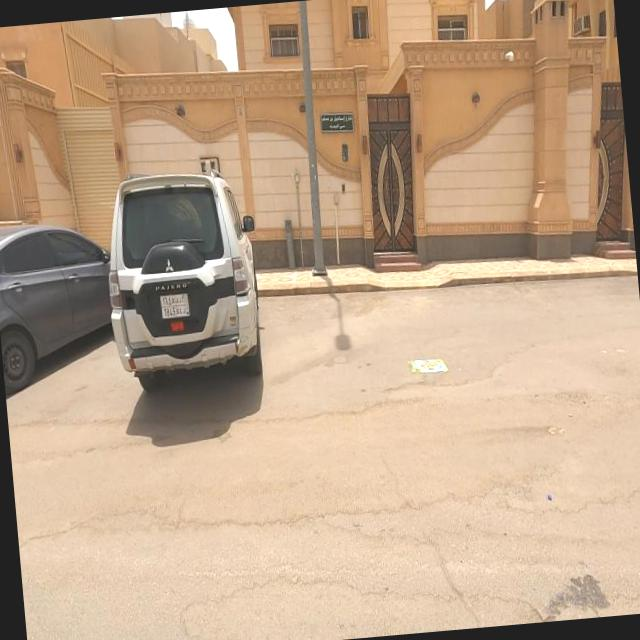debris: (370, 306, 488, 424)
